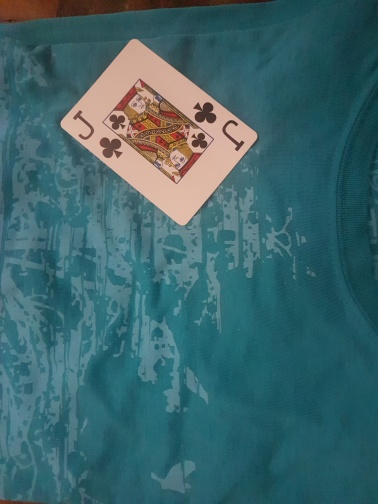jack: (60, 39, 258, 224)
